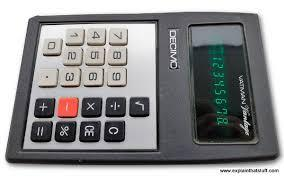Calculator: (2, 12, 281, 172)
